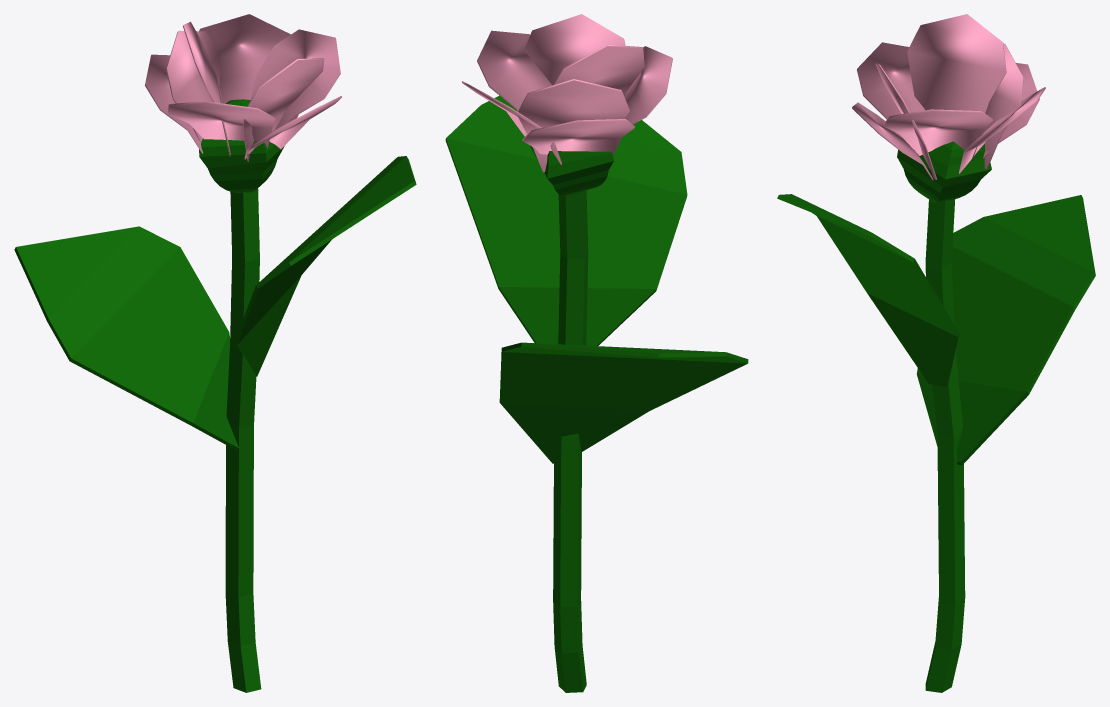
File: FLOWER.fbx
3 views of the same model, side by side, from view 1: azimuth 30°, elevation 25°; view 2: azimuth 150°, elevation 25°; view 3: azimuth 270°, elevation 25° (orthographic). The views are drawn at different scales.
Visible parts, largest first — view 1: Cylinder.005; view 2: Cylinder.005; view 3: Cylinder.005.
Boxes of the visible parts, left/top/right/bottom form: Cylinder.005: left=14, top=14, right=416, bottom=692; Cylinder.005: left=445, top=14, right=748, bottom=692; Cylinder.005: left=777, top=14, right=1095, bottom=692.
Size of the model in its own units: 741 by 1486 by 661.
